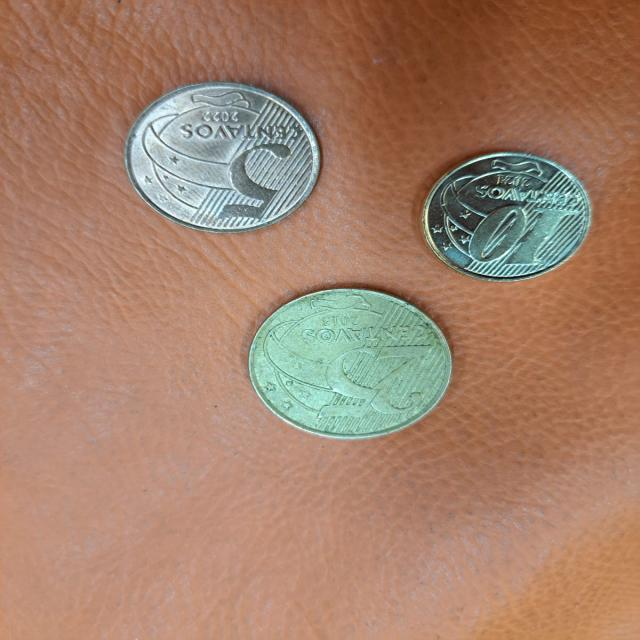25 cents: (235, 284, 464, 448)
